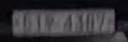61부4389: (19, 11, 109, 35)
